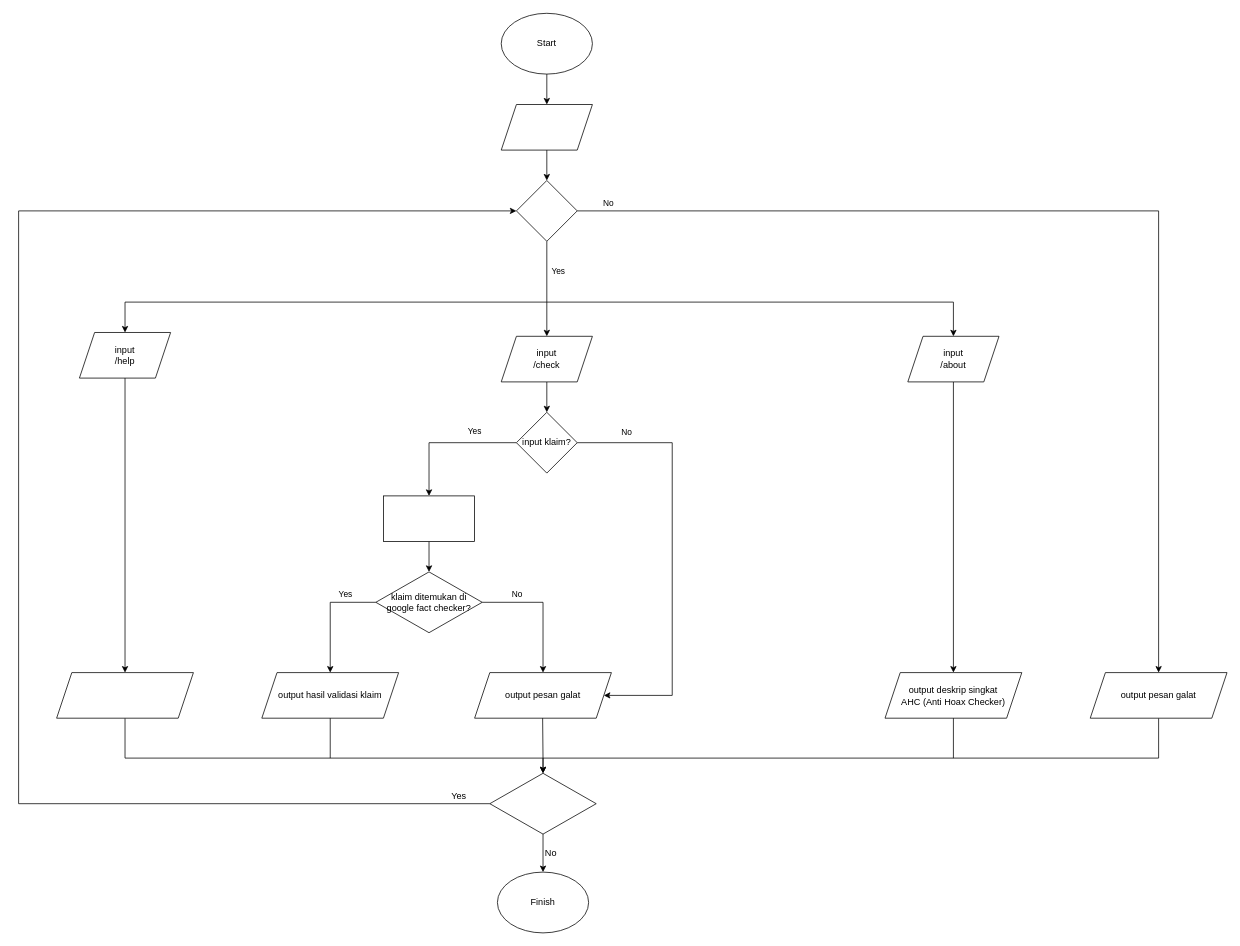
This 1240x946 diagram has some shape labels left out. Each missing label, with the centre of its shape:
"gunakan fitur lain?" goes at point 542,803.
"input command?" goes at point 546,210.
"mencari klaim dengan google fact checker" goes at point 429,518.
"output list fitur yang dapat digunakan user" goes at point 124,695.
"output welcoming message" goes at point 546,127.
